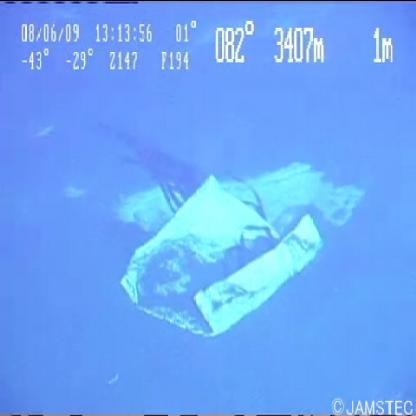Rác: (100, 149, 374, 348)
